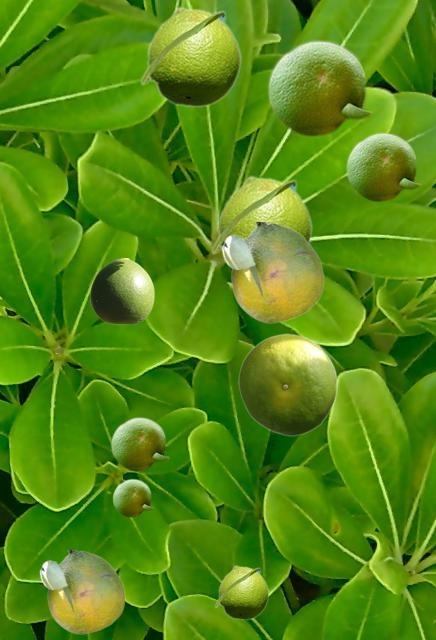dalandan: (266, 38, 373, 136), (139, 6, 241, 107), (221, 222, 323, 322), (238, 333, 336, 435), (210, 175, 312, 256), (39, 550, 124, 633), (345, 131, 421, 201), (90, 258, 153, 323), (110, 416, 169, 470), (214, 565, 268, 619), (112, 478, 153, 516)
